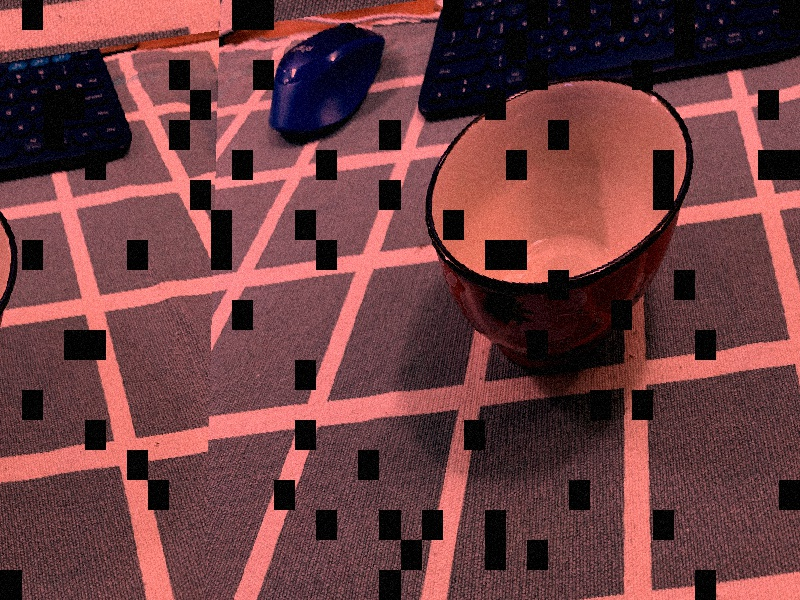bowl_small: (412, 51, 699, 402)
